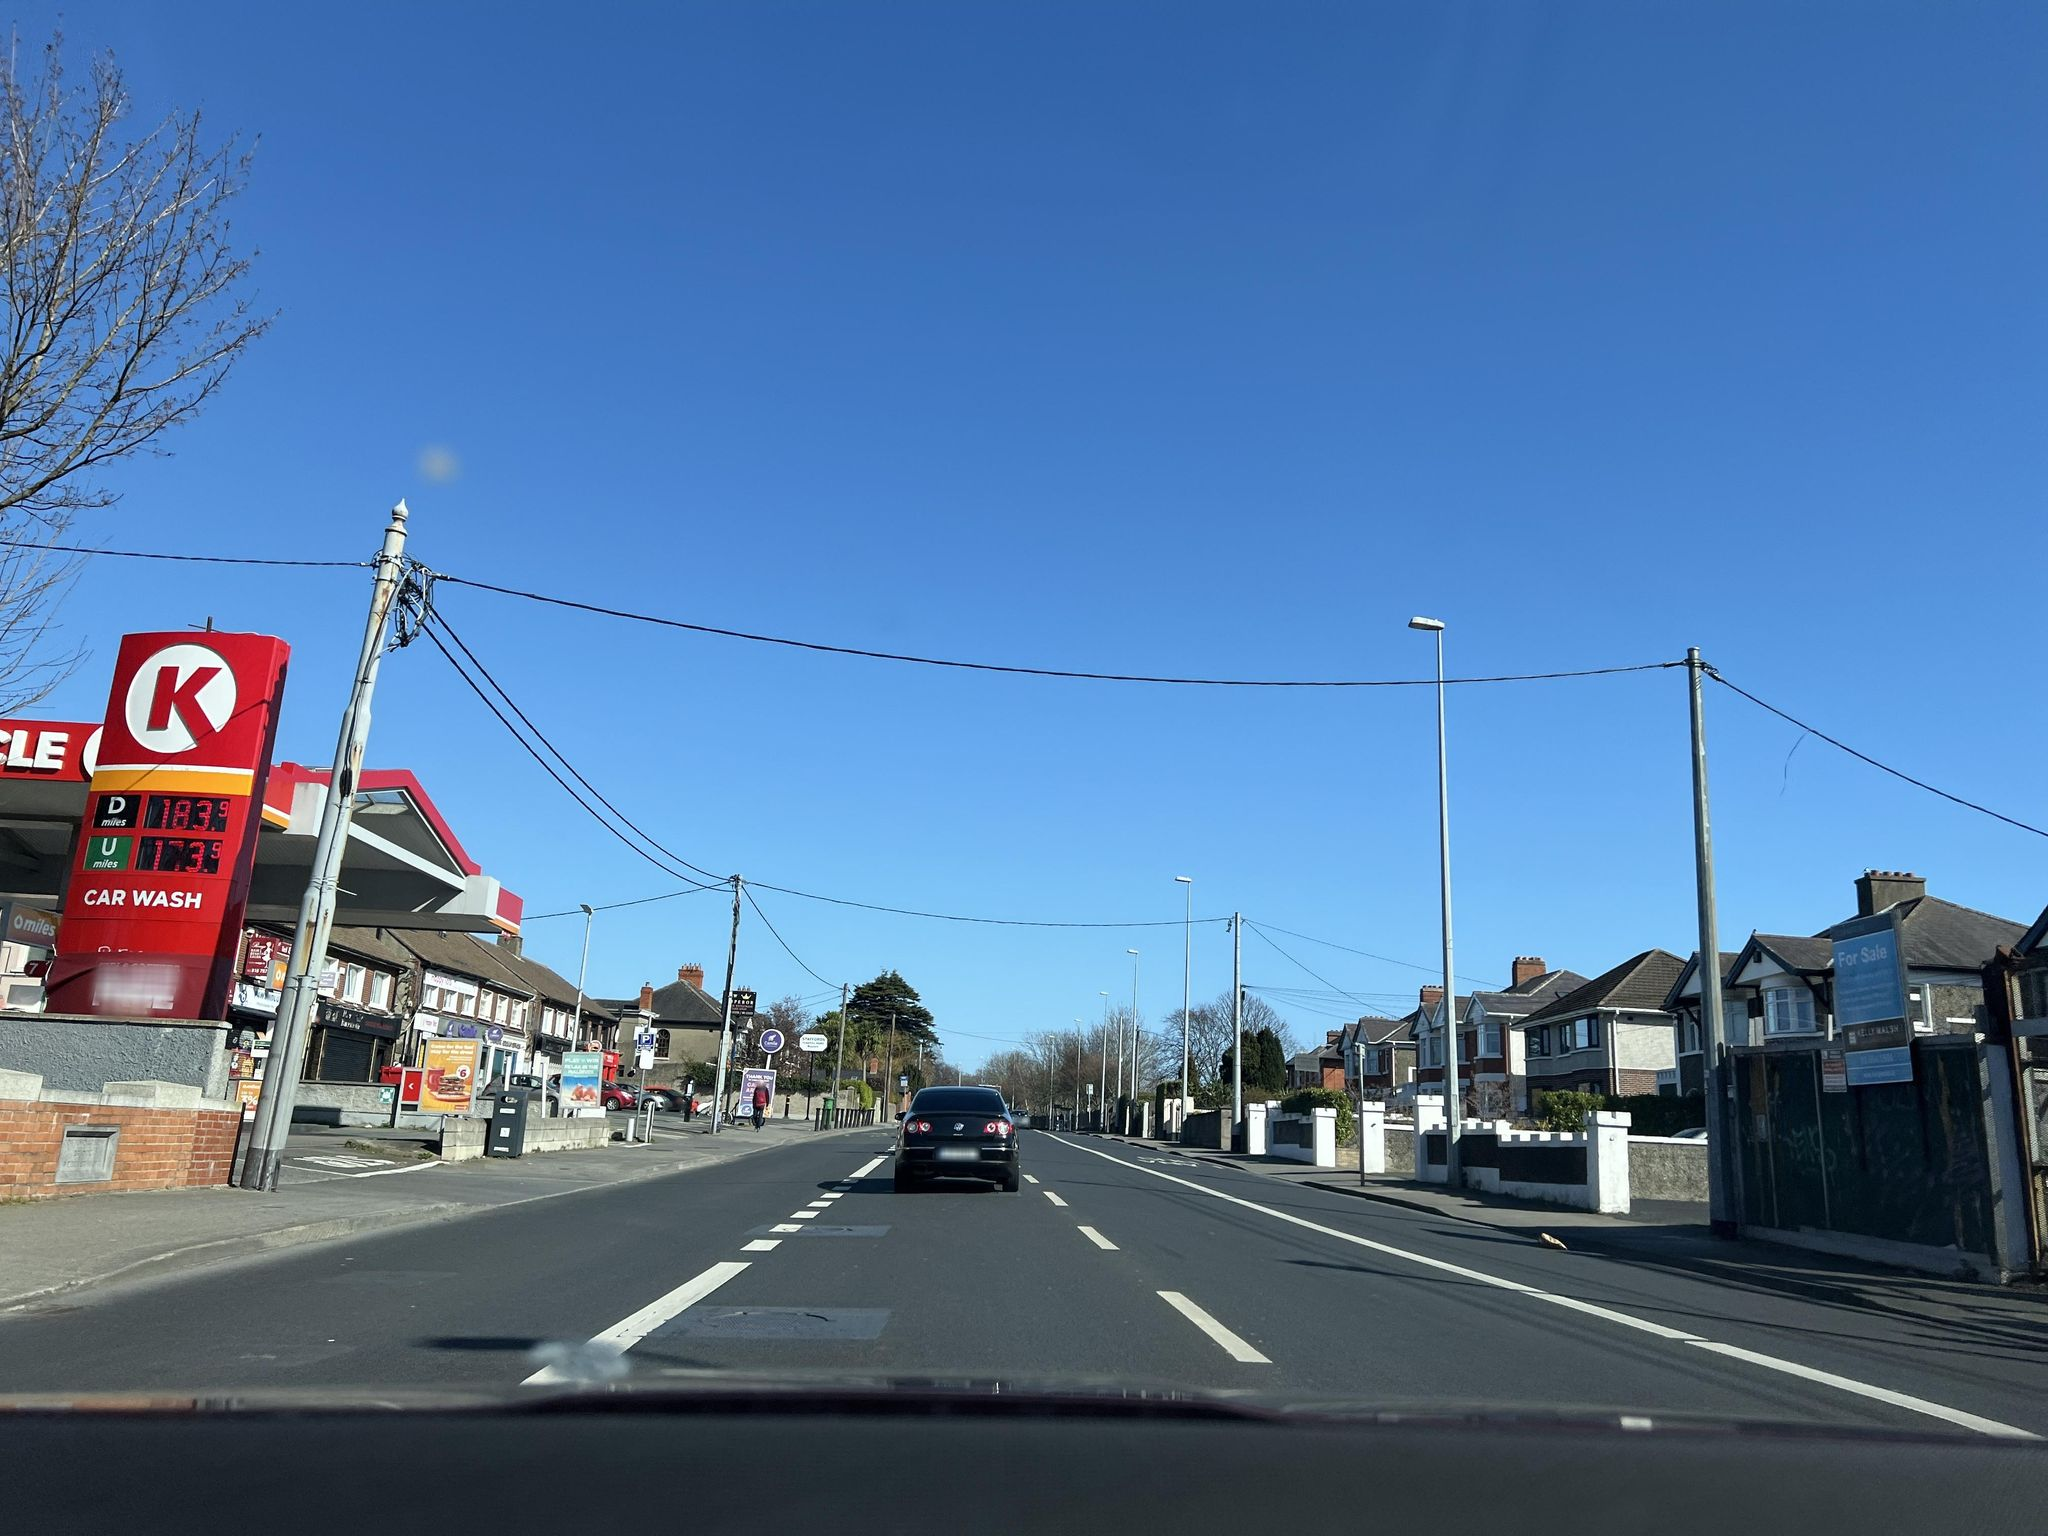property sign: (1816, 918, 1930, 1092)
